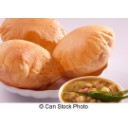poori: (56, 25, 113, 74), (1, 40, 62, 85), (2, 17, 64, 47)
